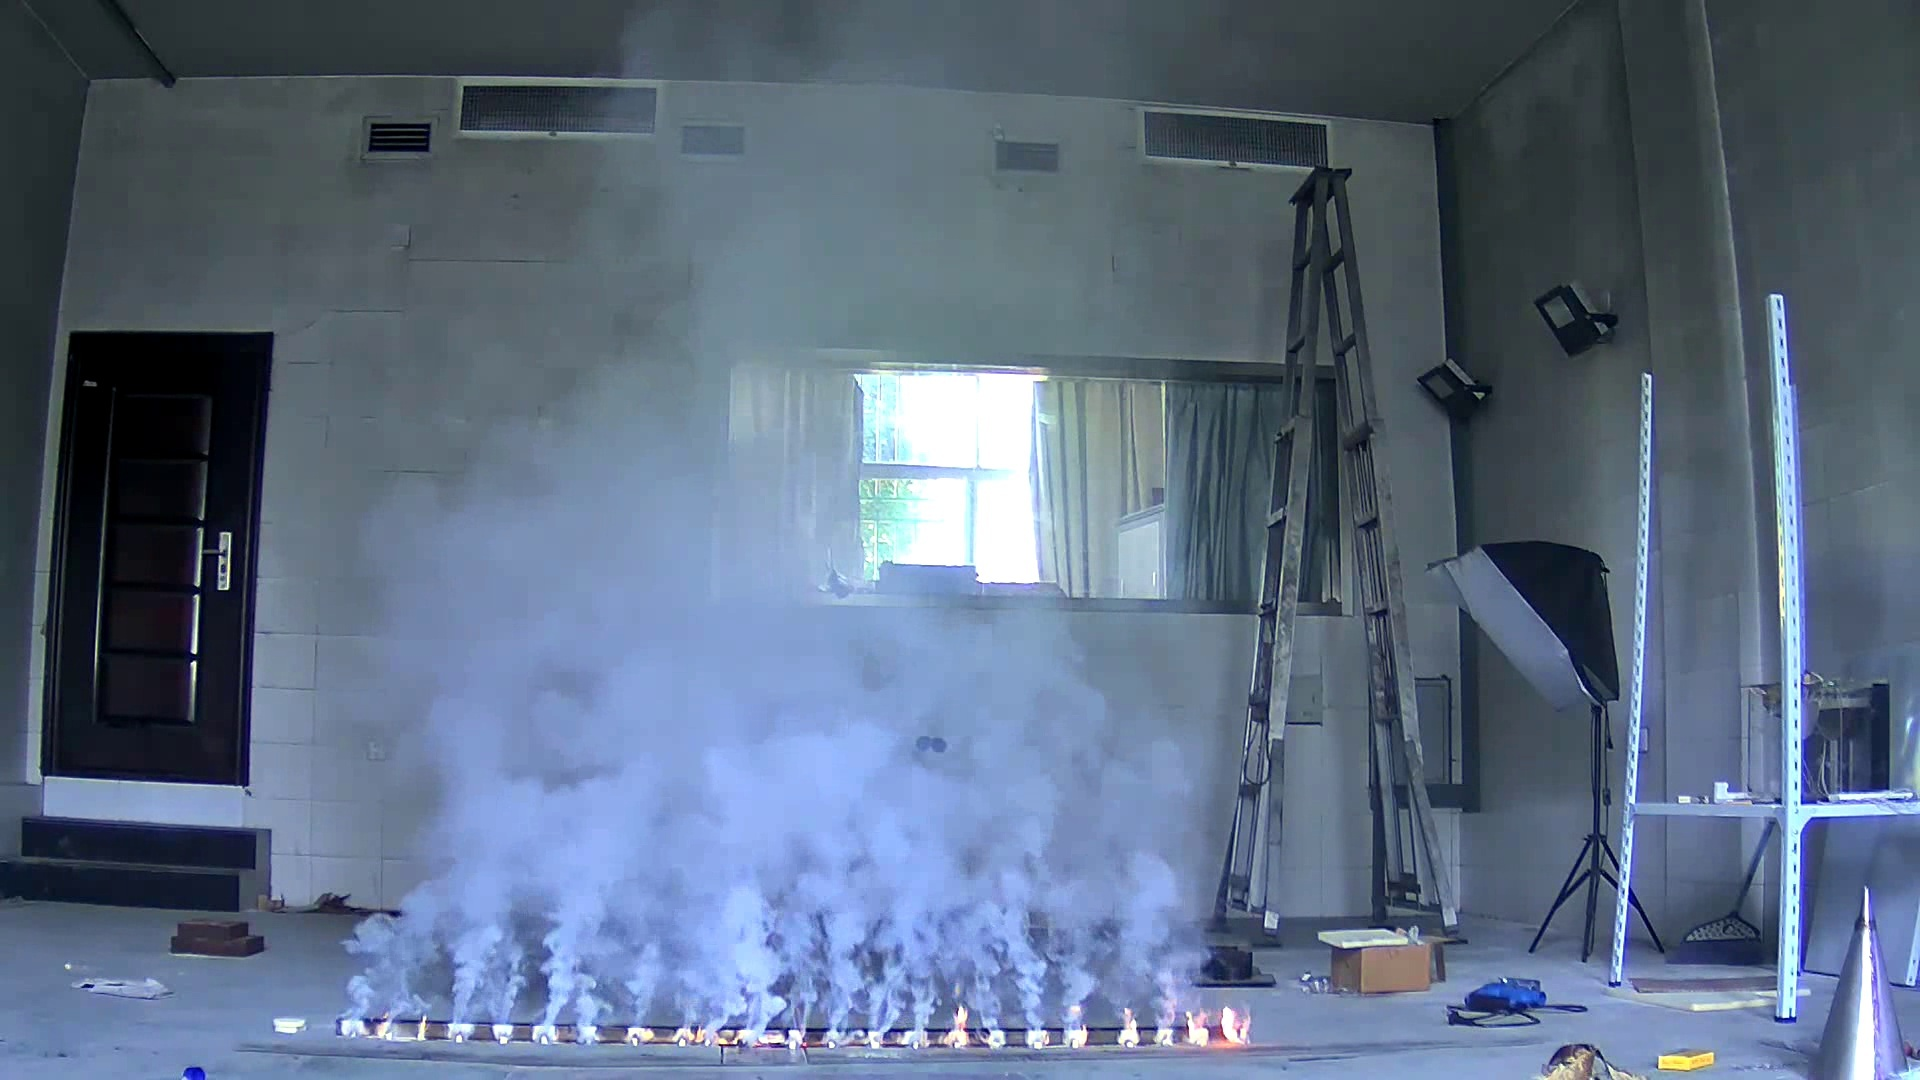smoke: (338, 436, 1222, 1025)
